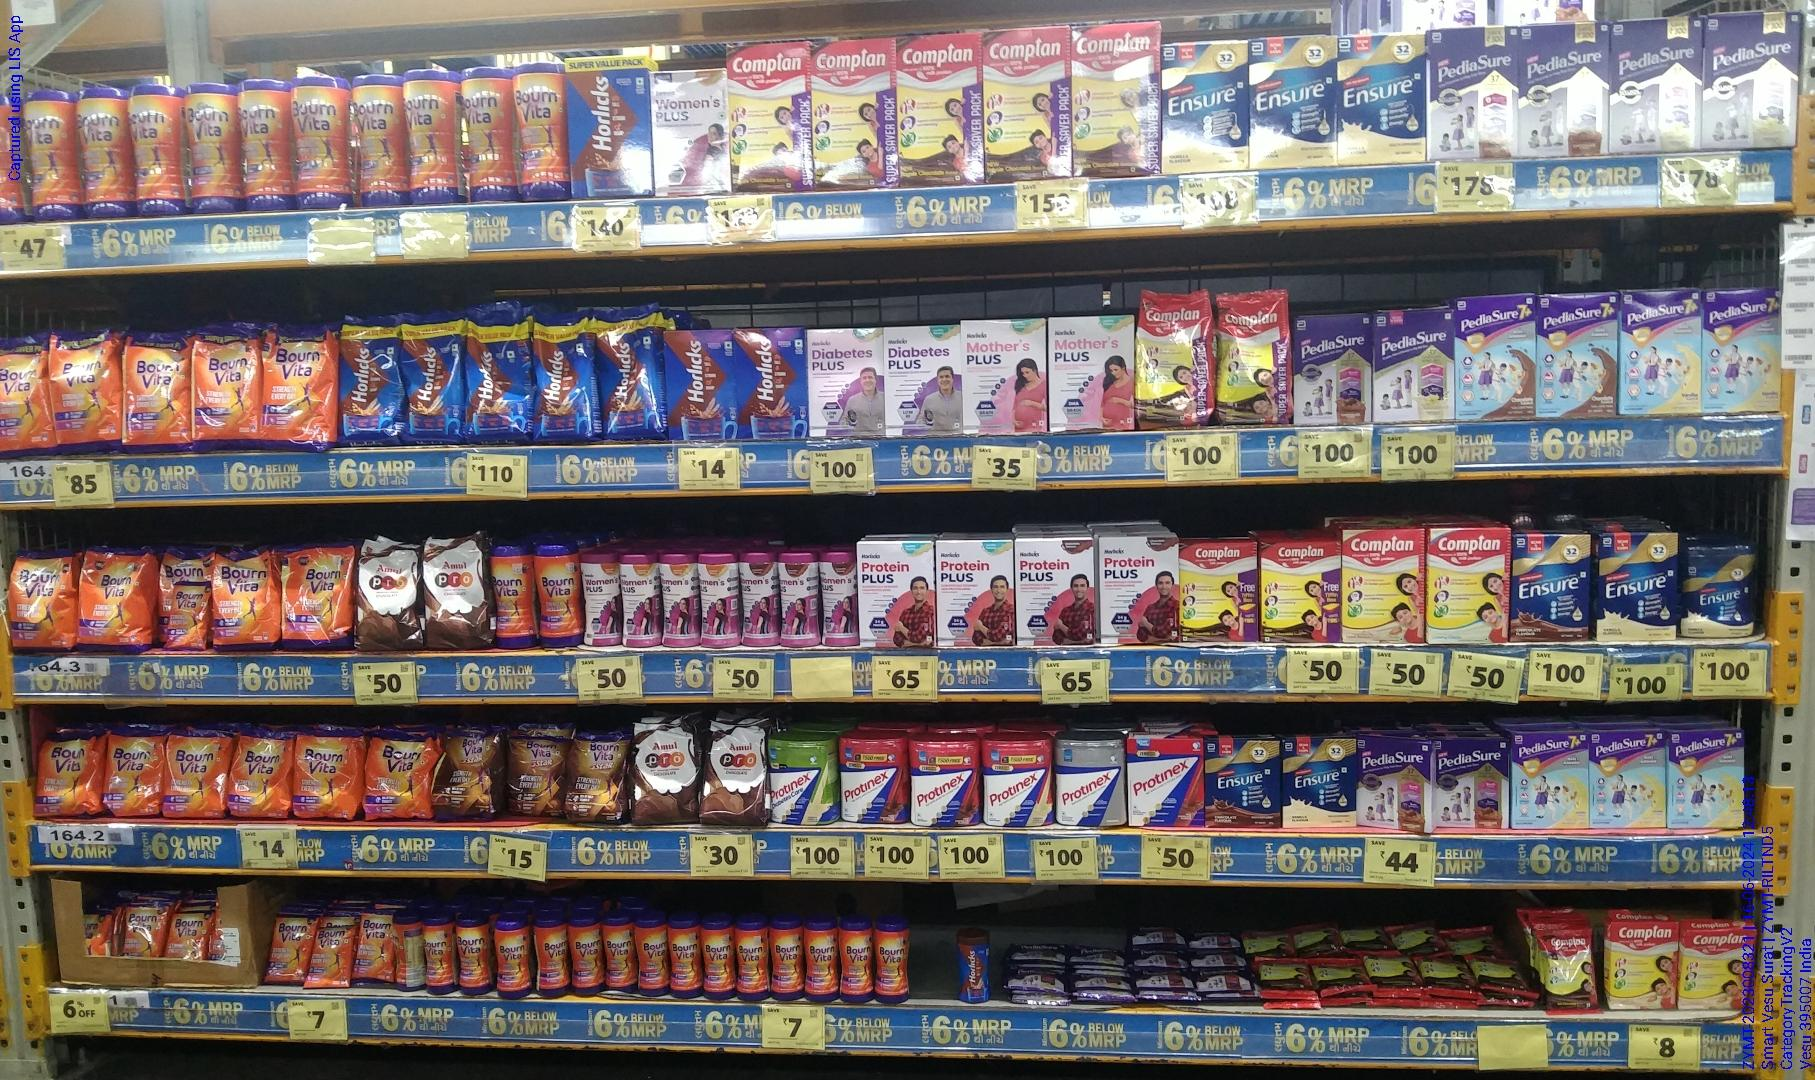ENSURE_VANILLA_400_G_PACK: (1158, 40, 1249, 176), (1248, 37, 1339, 171), (1339, 33, 1429, 166), (1590, 536, 1676, 649), (1283, 734, 1357, 833)
PEDIASURE_7_PLUS_CHOCOLATE_400_G_PACK: (1451, 294, 1539, 423), (1541, 288, 1618, 423)
PEDIASURE_CHOCOLATE_500_G_PACK: (1517, 21, 1611, 162), (1428, 30, 1519, 163), (1289, 318, 1377, 433), (1360, 737, 1432, 838), (1436, 738, 1510, 832)
PEDIASURE_VANILLA_500_G_PACK: (1612, 18, 1704, 162), (1701, 19, 1796, 150), (1377, 315, 1451, 422)
PROTINEX_CHOCOLATE_400_G_JAR: (907, 737, 976, 828), (843, 732, 905, 827)
PROTINEX_ORIGINAL_400_G_JAR: (1055, 735, 1123, 829)
PROTINEX_VANILLA_400_G_JAR: (982, 738, 1054, 828)
